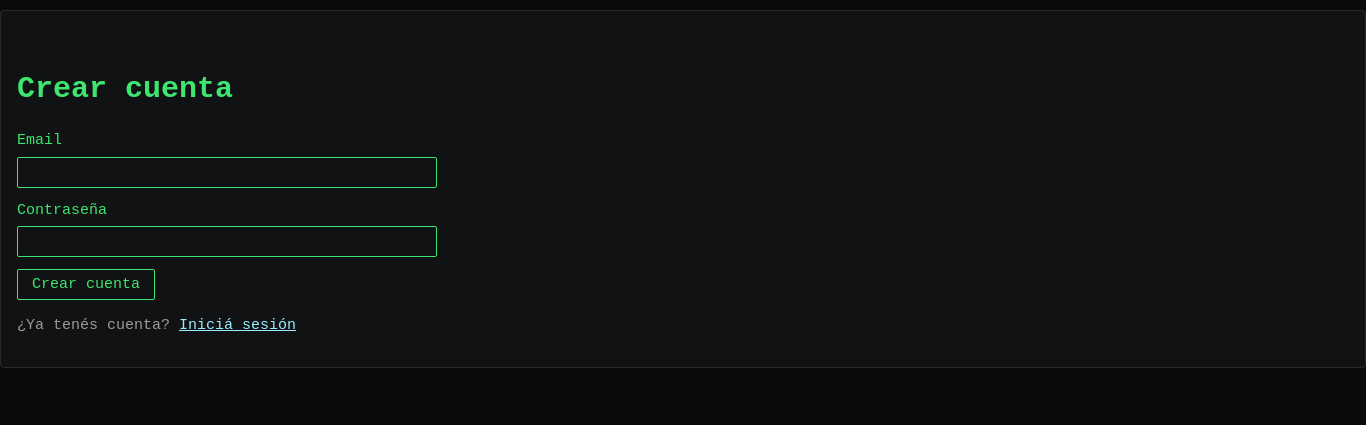
Scenario: RegisterPage › shows_a_validation_error_and_does_not_call_the_api_when_the_email_format_is_invalid
This screenshot has width=1366, height=425.
In the field labelled "Email": (227, 172) 17,156 -> 437,188, type "not-an-email"
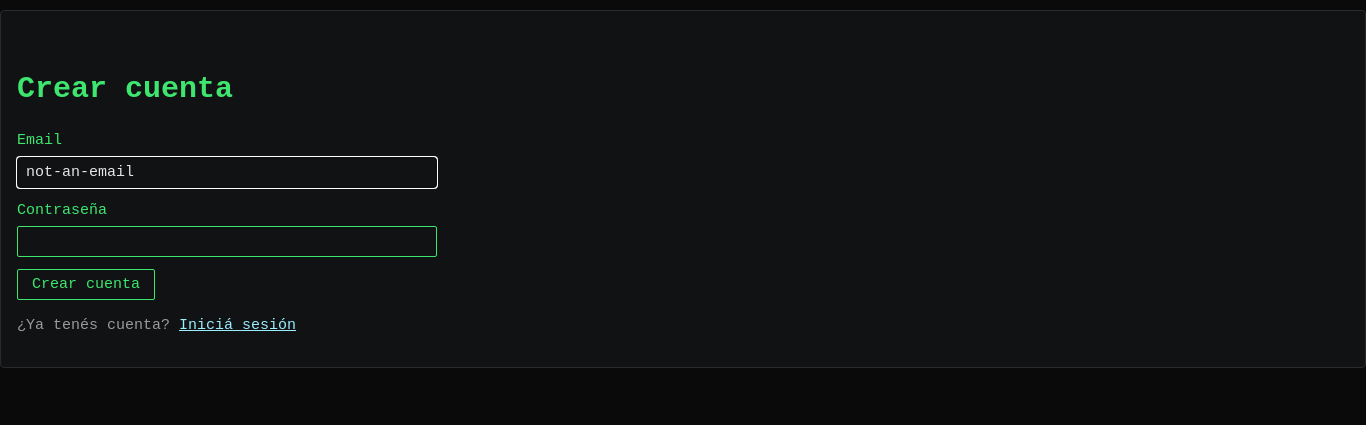
In the password field labelled "Contraseña": (227, 242) 17,226 -> 437,257, type "correct-horse-battery-staple"
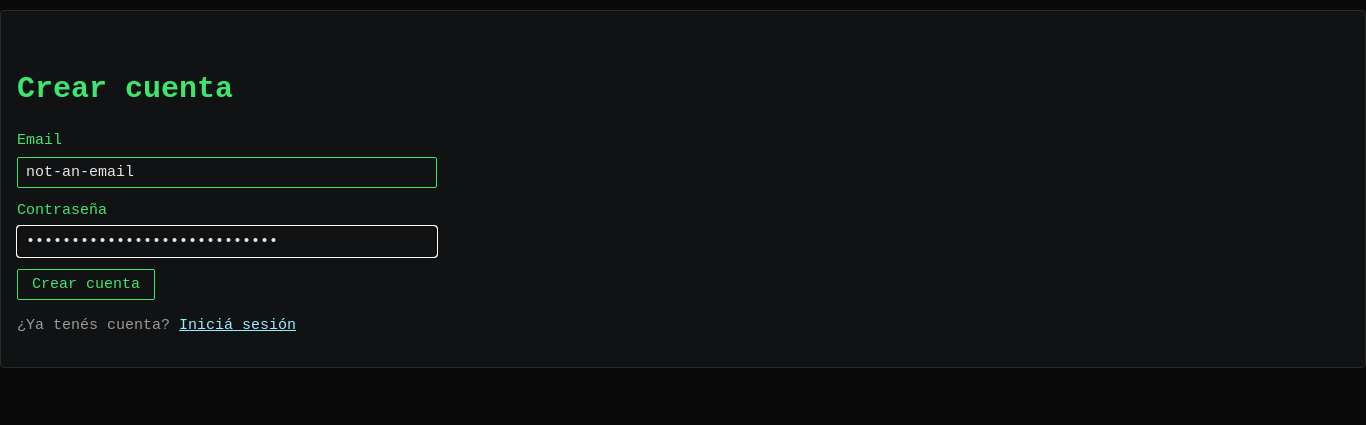
Click the button "Crear cuenta": (86, 284) 17,269 -> 155,300
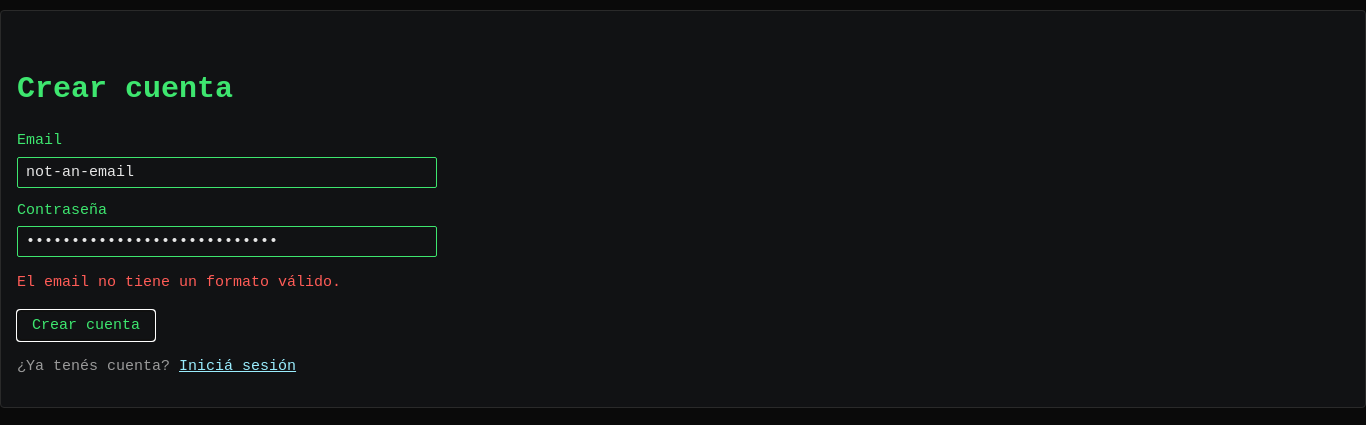
Expected: the message reads "El email no tiene un formato válido.", 17,274 -> 341,291
